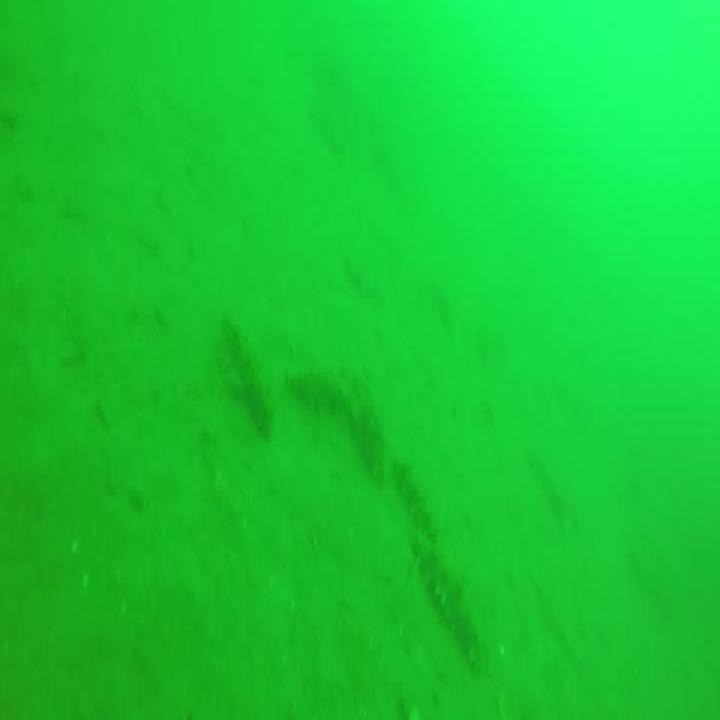holothurian: (292, 354, 384, 478), (407, 532, 479, 654), (224, 322, 276, 428), (398, 457, 442, 544)
